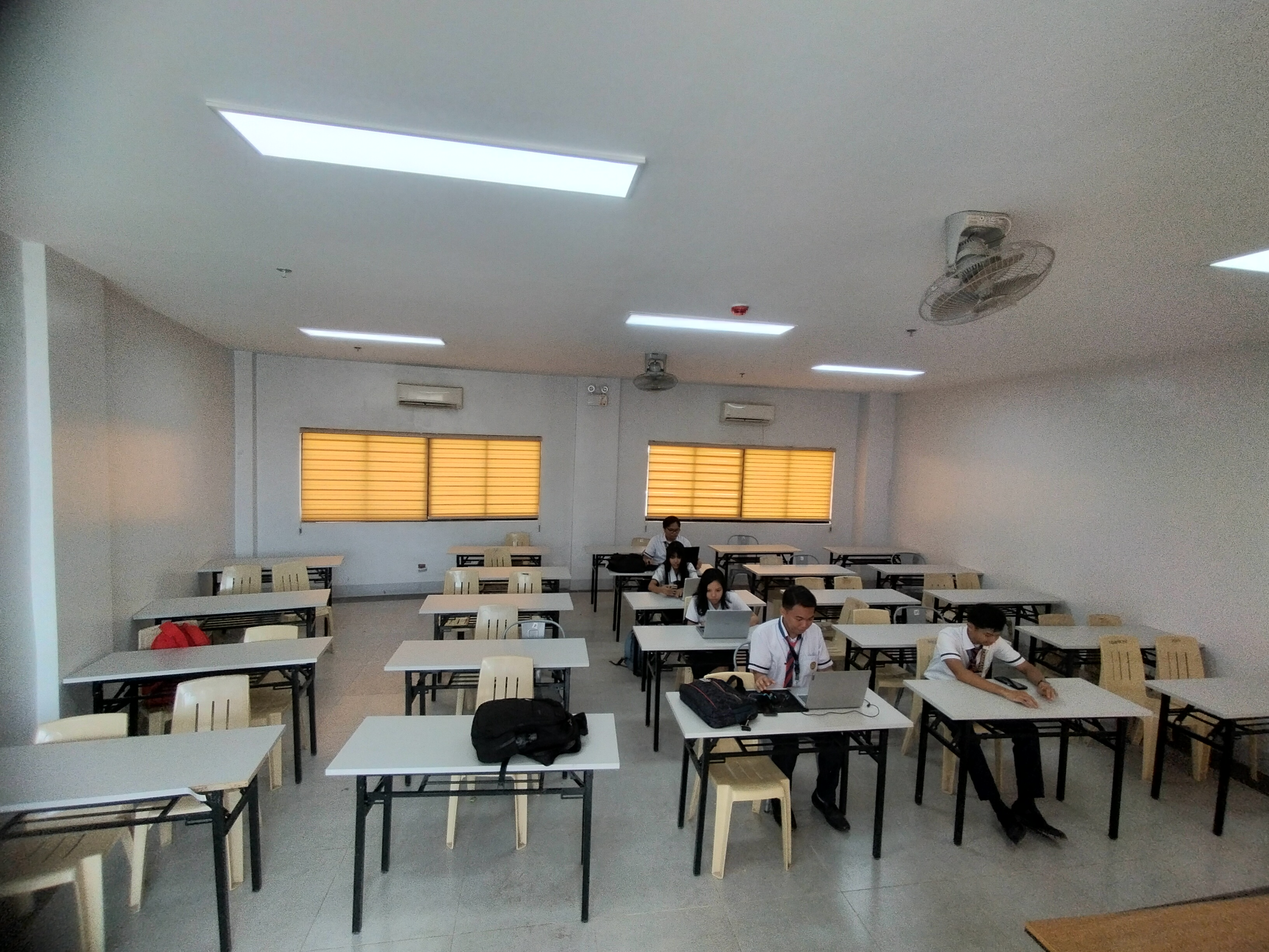with-student: (665, 584, 915, 789), (901, 599, 1152, 778), (632, 566, 794, 679), (617, 539, 772, 615), (608, 515, 718, 583)
